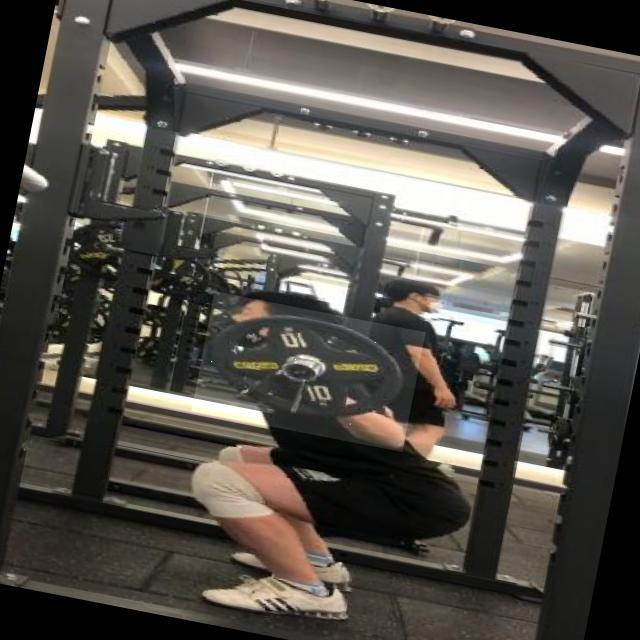barbell: (193, 292, 427, 453)
